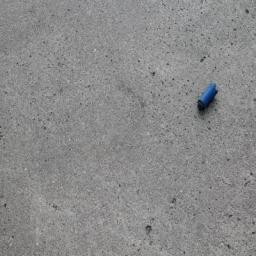FOD: (194, 82, 224, 114)
